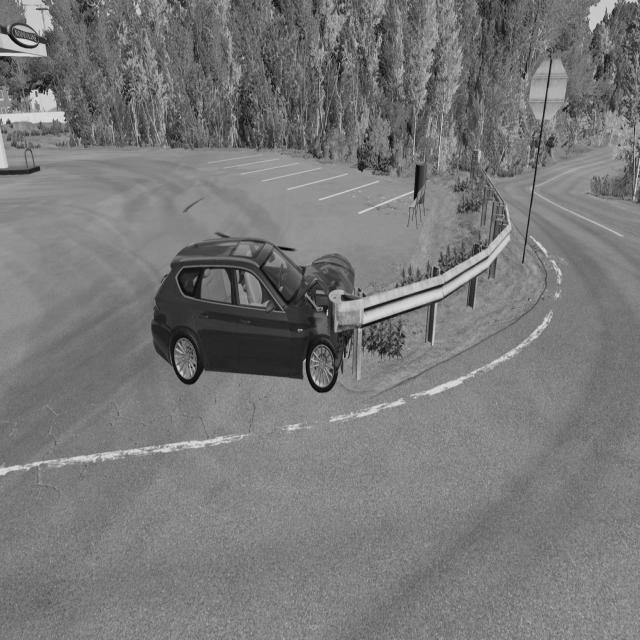accident: (148, 235, 366, 395)
